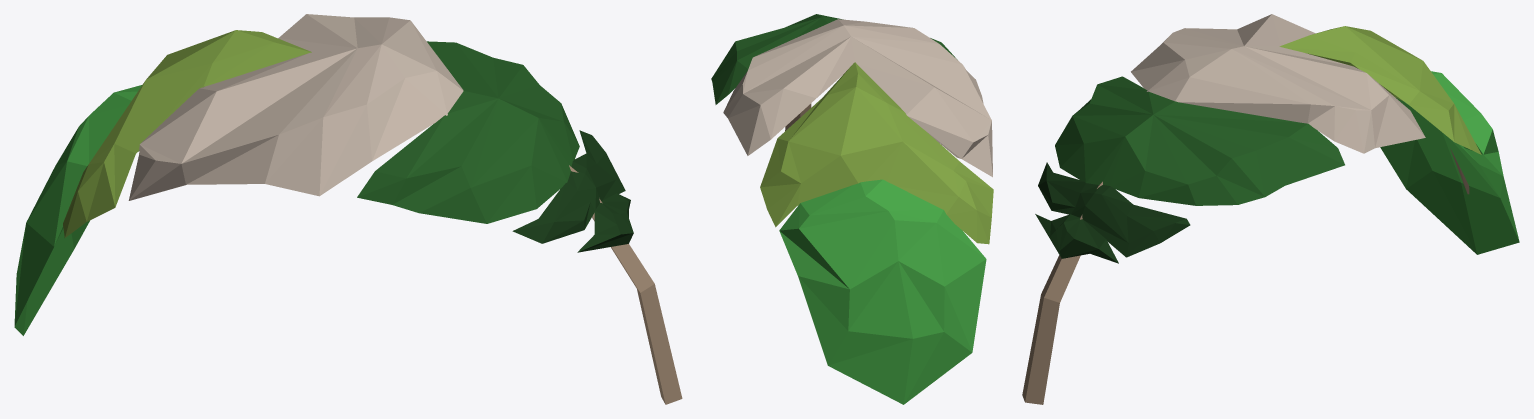
Rendered from Feather_06.FBX.
3 views of the same model, side by side, from view 1: azimuth 30°, elevation 25°; view 2: azimuth 150°, elevation 25°; view 3: azimuth 270°, elevation 25° (orthographic). The views are drawn at different scales.
Visible parts, largest first — view 1: Feather_06; view 2: Feather_06; view 3: Feather_06.
Boxes of the visible parts, bbox=[...] form: Feather_06: bbox=[14, 14, 682, 404]; Feather_06: bbox=[711, 14, 993, 404]; Feather_06: bbox=[1022, 14, 1519, 404].
Size of the model in its own units: 1.77 by 1.27 by 1.91.
